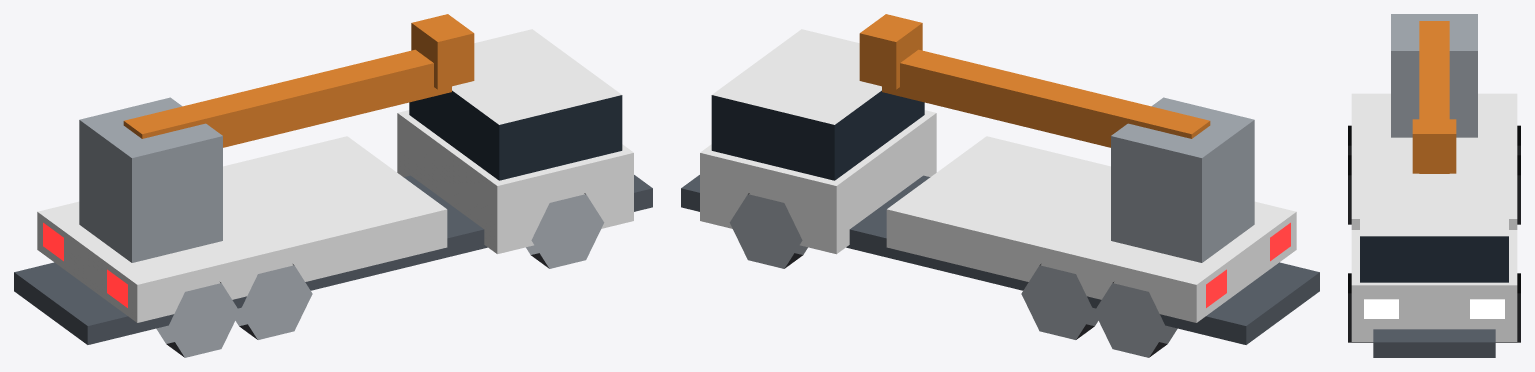
Rendered from truck_utility.glb.
3 renders of one model, left to right at view 1: azimuth 30°, elevation 25°; view 2: azimuth 150°, elevation 25°; view 3: azimuth 270°, elevation 25°, orthographic. The views are drawn at different scales.
Visible parts, largest first — view 1: truck_utility; view 2: truck_utility; view 3: truck_utility.
Part boxes in pixels (x1,y1,x2,y2): truck_utility: (14, 14, 652, 357); truck_utility: (681, 14, 1319, 357); truck_utility: (1348, 14, 1520, 357).
Size of the model in its own units: 0.62 by 0.2266 by 0.198.
